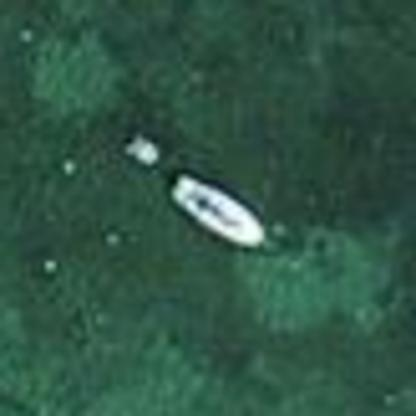ship: (120, 124, 276, 258)
